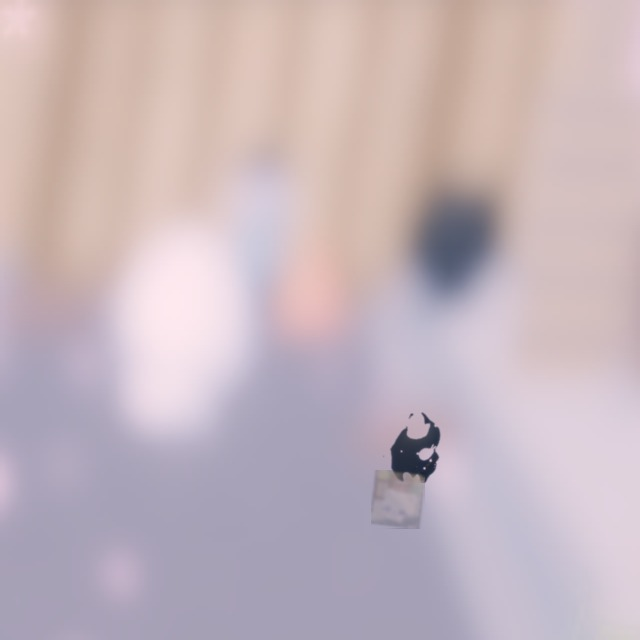urso_branco: (371, 470, 425, 529)
urso_preto: (367, 394, 465, 505)
